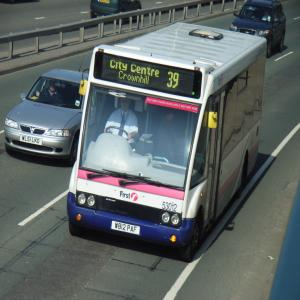Vehicle-registration-plate: (112, 222, 142, 237), (21, 136, 43, 147)
